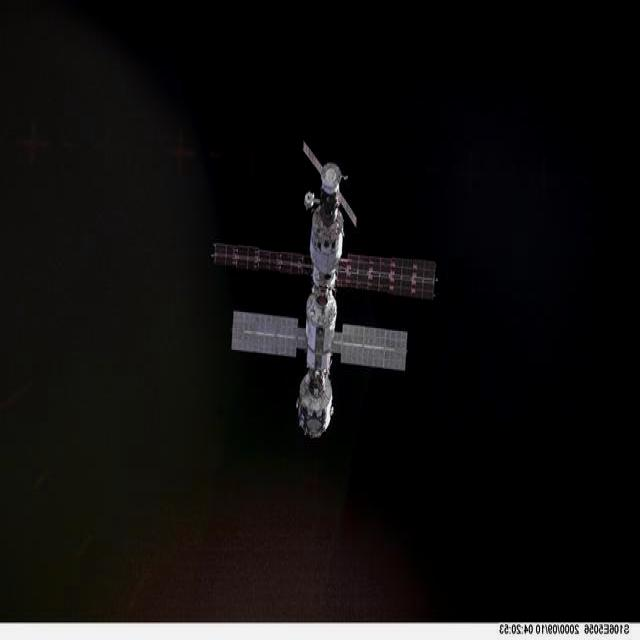medium_debris: (211, 143, 436, 438)
